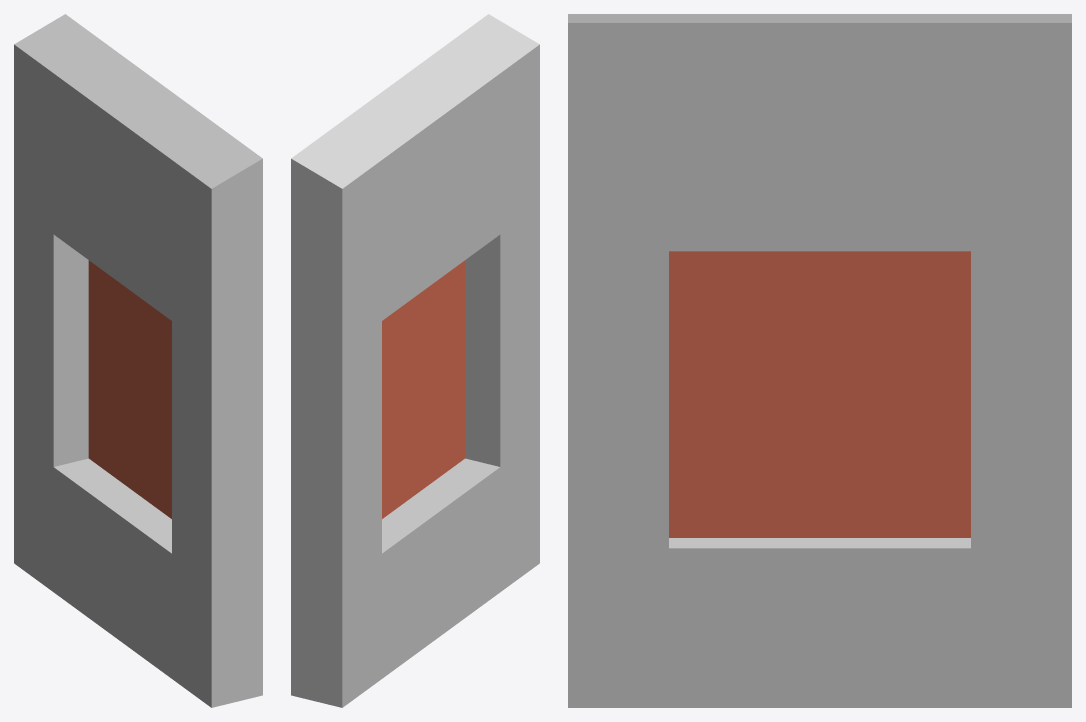
Rendered from windows.fbx.
3 views of the same model, side by side, from view 1: azimuth 30°, elevation 25°; view 2: azimuth 150°, elevation 25°; view 3: azimuth 270°, elevation 25° (orthographic). The views are drawn at different scales.
Visible parts, largest first — view 1: windows; view 2: windows; view 3: windows.
Part boxes in pixels (<box>): windows: <box>14,14,262,707</box>; windows: <box>291,14,539,707</box>; windows: <box>568,14,1071,707</box>.
Bounding box in the file's own units: 30 × 300 × 200.
